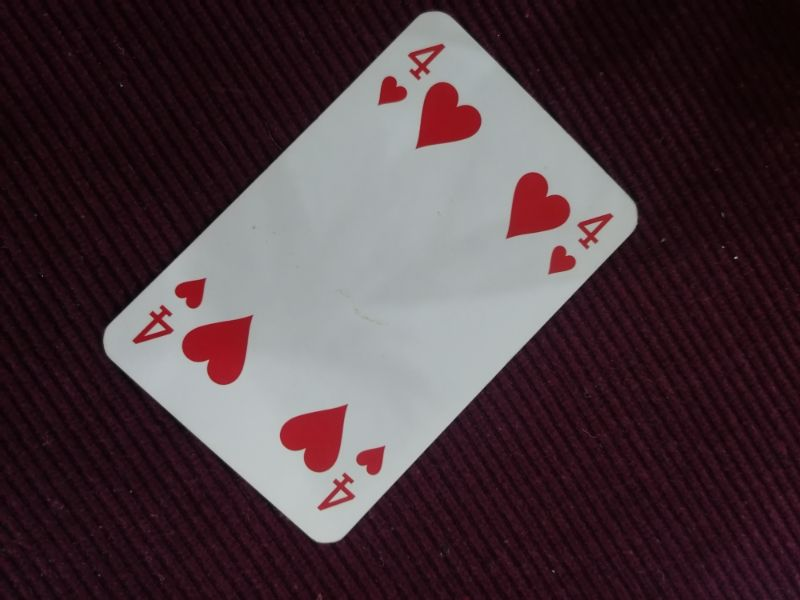4h: (128, 274, 212, 348), (315, 440, 392, 516), (545, 208, 620, 280), (375, 39, 449, 109)
